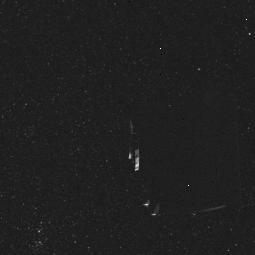cheops: (122, 102, 226, 218)
